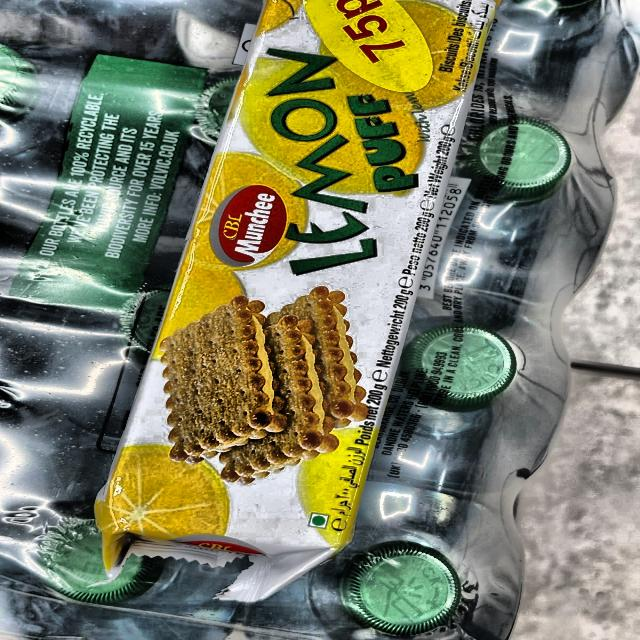lemon puff: (120, 0, 499, 610)
